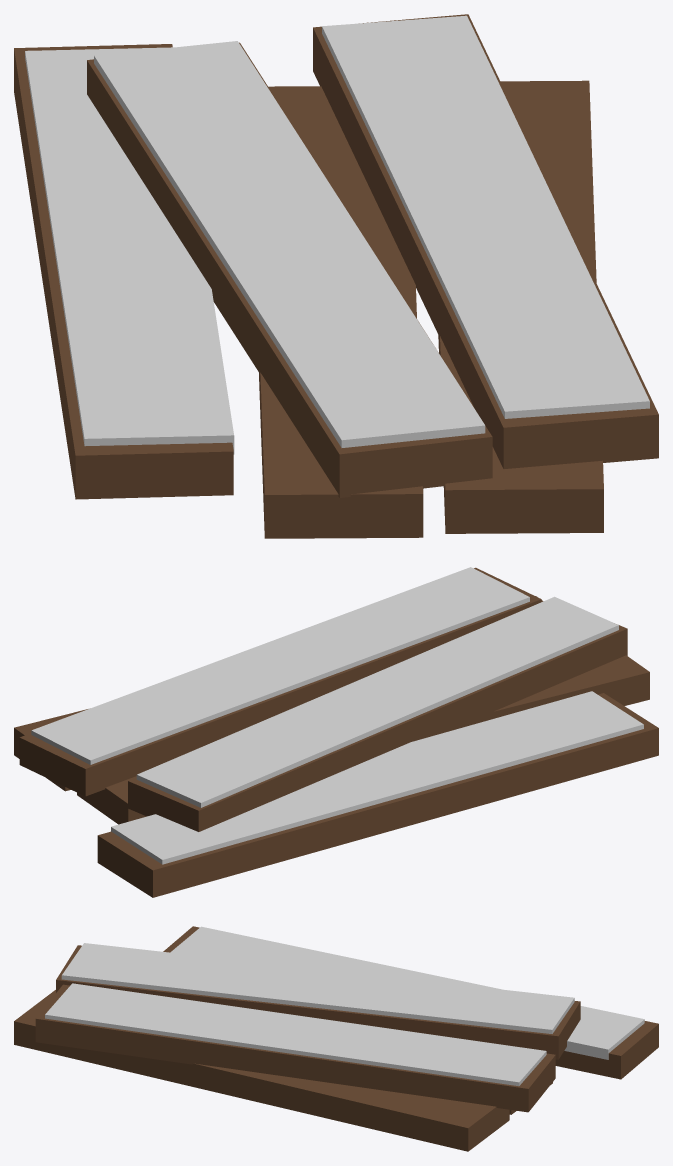
File: wood_2_snow_mat.fbx
3 views of the same model, one above another, from view 1: azimuth 30°, elevation 25°; view 2: azimuth 150°, elevation 25°; view 3: azimuth 270°, elevation 25° (orthographic). The views are drawn at different scales.
Parts seen in each view (by area): view 1: wood_2_snow_mat; view 2: wood_2_snow_mat; view 3: wood_2_snow_mat.
Part boxes in pixels (x1=…): wood_2_snow_mat: x1=14, y1=14, x2=658, y2=538; wood_2_snow_mat: x1=14, y1=567, x2=658, y2=897; wood_2_snow_mat: x1=14, y1=926, x2=658, y2=1151.
Bounding box in the file's own units: 137 × 15.79 × 184.
